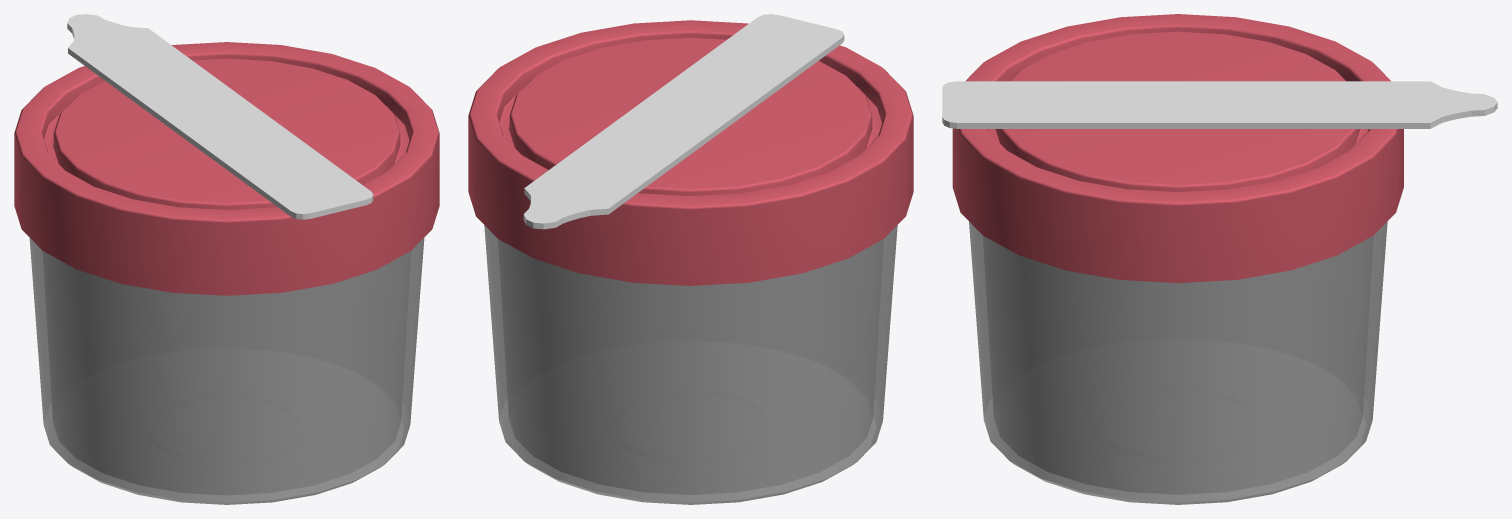
3 renders of one model, left to right at view 1: azimuth 30°, elevation 25°; view 2: azimuth 150°, elevation 25°; view 3: azimuth 270°, elevation 25°, orthographic. The views are drawn at different scales.
Parts seen in each view (by area): view 1: TanYangBenCaiJiRongQi_pingshen, TanYangBenCaiJiRongQi_gaizi, TanYangBenCaiJiRongQi_biaoqian; view 2: TanYangBenCaiJiRongQi_pingshen, TanYangBenCaiJiRongQi_gaizi, TanYangBenCaiJiRongQi_biaoqian; view 3: TanYangBenCaiJiRongQi_pingshen, TanYangBenCaiJiRongQi_gaizi, TanYangBenCaiJiRongQi_biaoqian.
Boxes of the visible parts, box(x1,y1,x2,y2) form: TanYangBenCaiJiRongQi_pingshen: box(29, 238, 424, 504); TanYangBenCaiJiRongQi_gaizi: box(14, 42, 439, 295); TanYangBenCaiJiRongQi_biaoqian: box(67, 14, 373, 219); TanYangBenCaiJiRongQi_pingshen: box(484, 225, 897, 504); TanYangBenCaiJiRongQi_gaizi: box(468, 20, 913, 285); TanYangBenCaiJiRongQi_biaoqian: box(523, 14, 844, 229); TanYangBenCaiJiRongQi_pingshen: box(969, 221, 1387, 504); TanYangBenCaiJiRongQi_gaizi: box(952, 14, 1403, 283); TanYangBenCaiJiRongQi_biaoqian: box(942, 81, 1497, 128).
Size of the model in its own units: 2 by 1.58 by 2.46.
